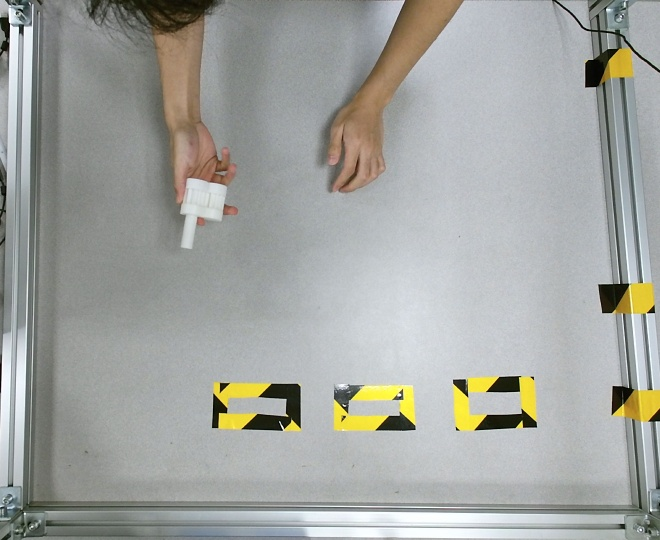stage_4: (178, 177, 226, 248)
